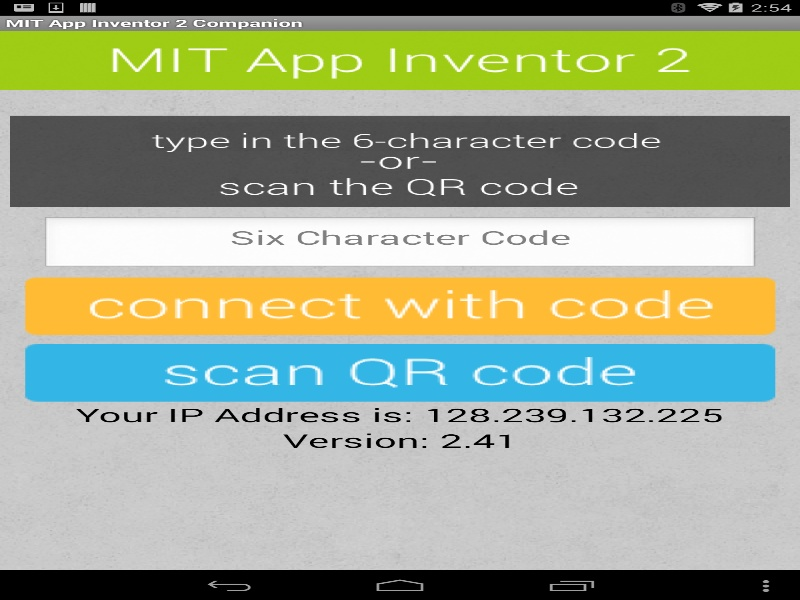Button: (13, 162, 413, 193), (13, 198, 413, 228)
Input: (21, 130, 405, 160)
